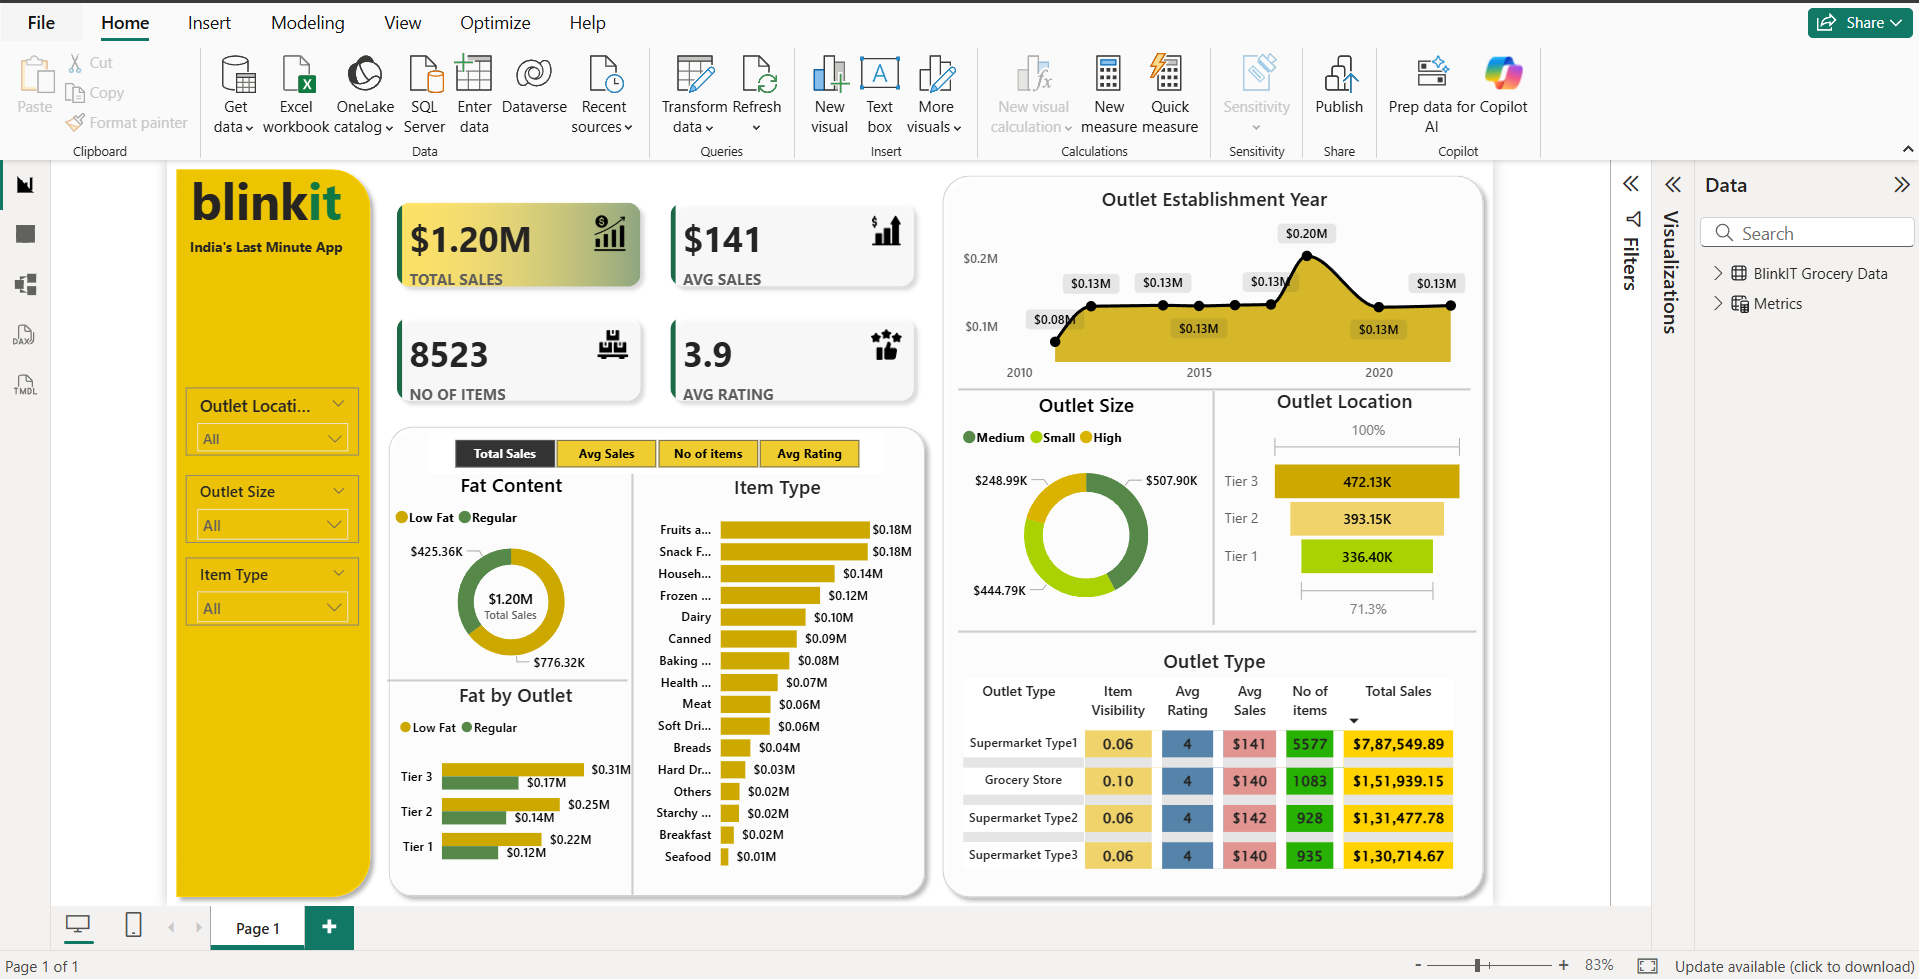

Layout of this report page (visuals, bound fields, positions):
{"tool":"powerbi","page":{"name":"Page 1","canvas":[1280,720],"ordinal":0},"visuals":[{"type":"shape","box":[0,0,205.1,720.3],"z":0},{"type":"textbox","box":[18.6,1.7,166.1,91.5],"z":1000},{"type":"textbox","box":[0,69.5,191.5,45.8],"z":2000},{"type":"cardVisual","fields":{"Data":["BlinkIT Grocery Data.Total Sales","BlinkIT Grocery Data.Avg Sales","BlinkIT Grocery Data.No of items","BlinkIT Grocery Data.Avg Rating"]},"box":[205.5,23.6,534.5,225.5],"z":3000},{"type":"shape","box":[204.8,248.4,535.5,471],"z":4000},{"type":"donutChart","title":" Fat Content","fields":{"Y":["BlinkIT Grocery Data.Total Sales"],"Category":["BlinkIT Grocery Data.Item Fat Content"]},"box":[216.4,300,232.7,200],"z":5000},{"type":"slicer","fields":{"Values":["Metrics.Metrics"]},"box":[251.6,262.9,440.3,40.3],"z":6000},{"type":"cardVisual","fields":{"Data":["BlinkIT Grocery Data.Total Sales"]},"box":[283.6,392.7,96.4,72.7],"z":7000},{"type":"clusteredBarChart","title":"Fat by Outlet","fields":{"Y":["BlinkIT Grocery Data.Total Sales"],"Category":["BlinkIT Grocery Data.Outlet Location Type"],"Series":["BlinkIT Grocery Data.Item Fat Content"]},"box":[219.4,503.2,233.9,191.9],"z":8000},{"type":"shape","box":[212.9,493.5,232.3,17.7],"z":9000},{"type":"shape","box":[445.2,303.2,8.1,406.5],"z":10000},{"type":"barChart","title":"Item Type","fields":{"Y":["BlinkIT Grocery Data.Total Sales"],"Category":["BlinkIT Grocery Data.Item Type"]},"box":[453.2,303.2,271,391.9],"z":11000},{"type":"shape","box":[740,5.5,540,714.5],"z":12000},{"type":"lineChart","title":"Outlet Establishment Year","fields":{"Y":["BlinkIT Grocery Data.Total Sales"],"Category":["BlinkIT Grocery Data.Outlet Establishment Year"]},"box":[763.6,23.6,494.5,200],"z":13000},{"type":"shape","box":[1003.6,223.6,12.7,225.5],"z":14000},{"type":"donutChart","title":"Outlet Size","fields":{"Y":["BlinkIT Grocery Data.Total Sales"],"Category":["BlinkIT Grocery Data.Outlet Size"]},"box":[763.6,223.6,247.3,225.5],"z":15000},{"type":"shape","box":[763.6,220,494.5,3.6],"z":16000},{"type":"funnel","title":"Outlet Location","fields":{"Y":["Sum(BlinkIT Grocery Data.Sales)"],"Category":["BlinkIT Grocery Data.Outlet Location Type"]},"box":[1016.4,220,241.8,229.1],"z":17000},{"type":"shape","box":[763.6,445.5,500,20],"z":18000},{"type":"pivotTable","title":"Outlet Type","fields":{"Values":["Avg(BlinkIT Grocery Data.Item Visibility)","BlinkIT Grocery Data.Avg Rating","BlinkIT Grocery Data.Avg Sales","BlinkIT Grocery Data.No of items","BlinkIT Grocery Data.Total Sales"],"Rows":["BlinkIT Grocery Data.Outlet Type"]},"box":[763.6,470.9,494.5,240],"z":19000},{"type":"slicer","fields":{"Values":["BlinkIT Grocery Data.Outlet Location Type"]},"box":[18.2,220,167.3,65.5],"z":20000},{"type":"slicer","fields":{"Values":["BlinkIT Grocery Data.Outlet Size"]},"box":[18.2,303.6,167.3,65.5],"z":21000},{"type":"slicer","fields":{"Values":["BlinkIT Grocery Data.Item Type"]},"box":[18.2,383.6,167.3,65.5],"z":22000}]}

Visuals, with their boxes on the page's 1280x720 design canvas (x1, y1, x2, y2). These are canvas units, not pixel positions in the 1919x979 screenshot, which may show the page scaled, cropped or inside an application window:
shape: (left=0, top=0, right=205, bottom=720)
textbox: (left=19, top=2, right=185, bottom=93)
textbox: (left=0, top=70, right=192, bottom=115)
cardVisual - BlinkIT Grocery Data.Total Sales x BlinkIT Grocery Data.Avg Sales: (left=206, top=24, right=740, bottom=249)
shape: (left=205, top=248, right=740, bottom=719)
" Fat Content" donutChart: (left=216, top=300, right=449, bottom=500)
slicer - Metrics.Metrics: (left=252, top=263, right=692, bottom=303)
cardVisual - BlinkIT Grocery Data.Total Sales: (left=284, top=393, right=380, bottom=465)
"Fat by Outlet" clusteredBarChart: (left=219, top=503, right=453, bottom=695)
shape: (left=213, top=494, right=445, bottom=511)
shape: (left=445, top=303, right=453, bottom=710)
"Item Type" barChart: (left=453, top=303, right=724, bottom=695)
shape: (left=740, top=6, right=1280, bottom=720)
"Outlet Establishment Year" lineChart: (left=764, top=24, right=1258, bottom=224)
shape: (left=1004, top=224, right=1016, bottom=449)
"Outlet Size" donutChart: (left=764, top=224, right=1011, bottom=449)
shape: (left=764, top=220, right=1258, bottom=224)
"Outlet Location" funnel: (left=1016, top=220, right=1258, bottom=449)
shape: (left=764, top=446, right=1264, bottom=466)
"Outlet Type" pivotTable: (left=764, top=471, right=1258, bottom=711)
slicer - BlinkIT Grocery Data.Outlet Location Type: (left=18, top=220, right=186, bottom=286)
slicer - BlinkIT Grocery Data.Outlet Size: (left=18, top=304, right=186, bottom=369)
slicer - BlinkIT Grocery Data.Item Type: (left=18, top=384, right=186, bottom=449)
